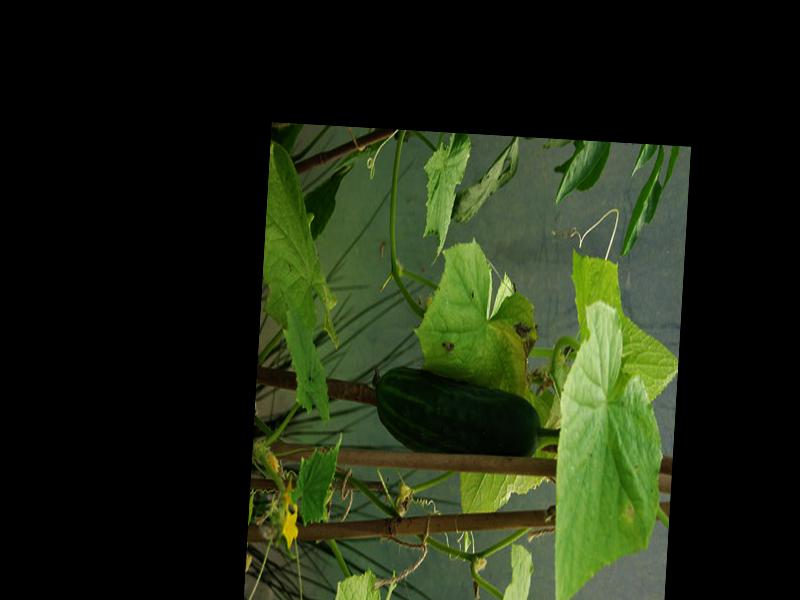Cucumber: (369, 363, 543, 459)
